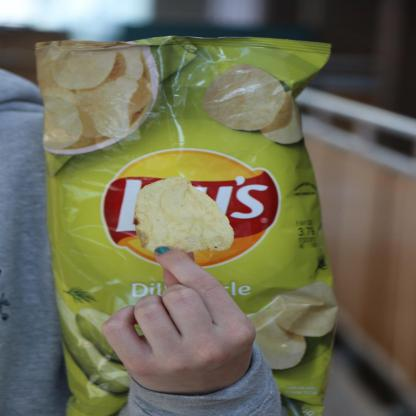potatochip: (31, 25, 349, 415)
